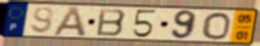5: (131, 9, 159, 39)
9: (171, 9, 199, 41), (30, 6, 56, 35)
A: (51, 6, 89, 38)
B: (95, 8, 128, 38)
O: (201, 11, 232, 41)
